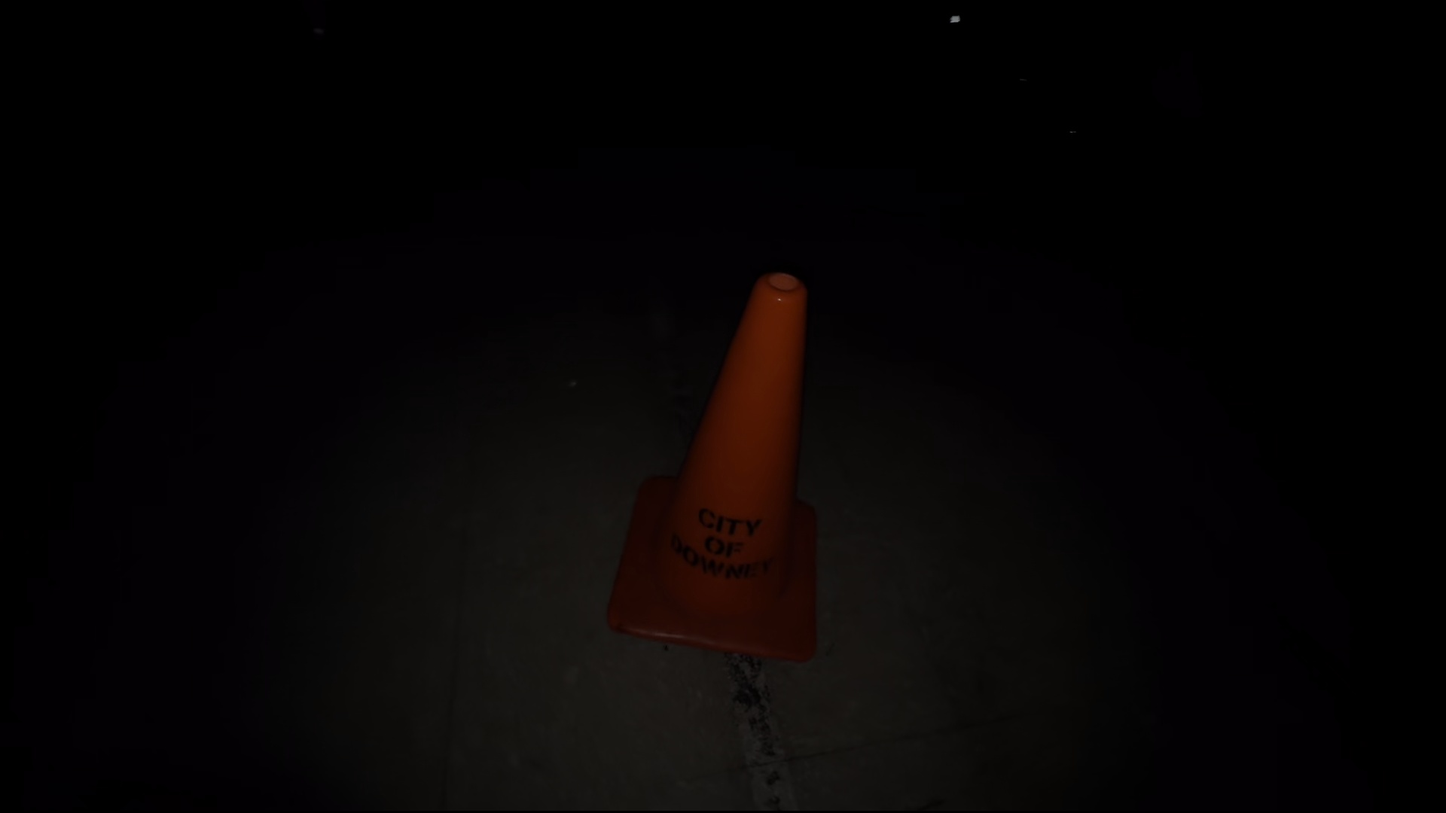traffic_cone: (605, 270, 820, 662)
